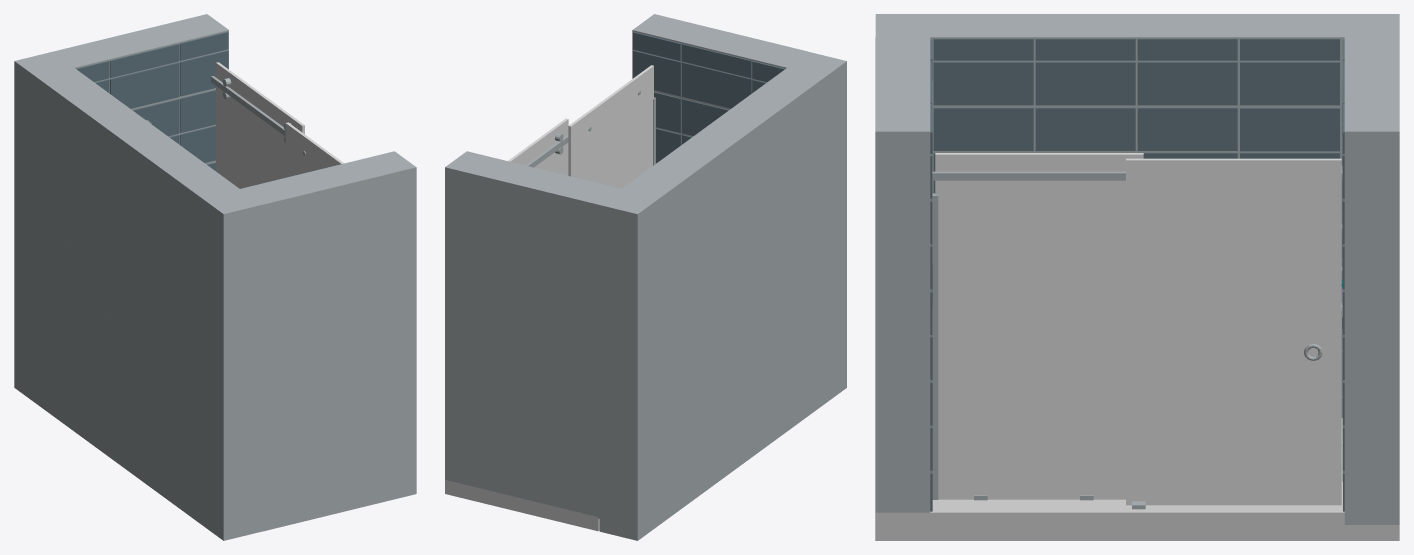
Rendered from Shower.fbx.
The picture shows the model from 3 angles, left to right: view 1: azimuth 30°, elevation 25°; view 2: azimuth 150°, elevation 25°; view 3: azimuth 270°, elevation 25°; orthographic projection. The views are drawn at different scales.
Visible parts, largest first — view 1: node_MeshObject561412736-PolyPaper15, node_MeshObject-392683968-PolyGlass24; view 2: node_MeshObject561412736-PolyPaper15, node_MeshObject-392683968-PolyGlass24; view 3: node_MeshObject561412736-PolyPaper15, node_MeshObject-392683968-PolyGlass24.
Boxes of the visible parts, x1,y1,x2,y2 form: node_MeshObject561412736-PolyPaper15: (14,14,416,540); node_MeshObject-392683968-PolyGlass24: (216,62,343,188); node_MeshObject561412736-PolyPaper15: (445,14,846,540); node_MeshObject-392683968-PolyGlass24: (508,65,653,188); node_MeshObject561412736-PolyPaper15: (875,14,1399,540); node_MeshObject-392683968-PolyGlass24: (935,153,1341,505).
Bounding box in the file's own units: 142 × 230 × 267.
